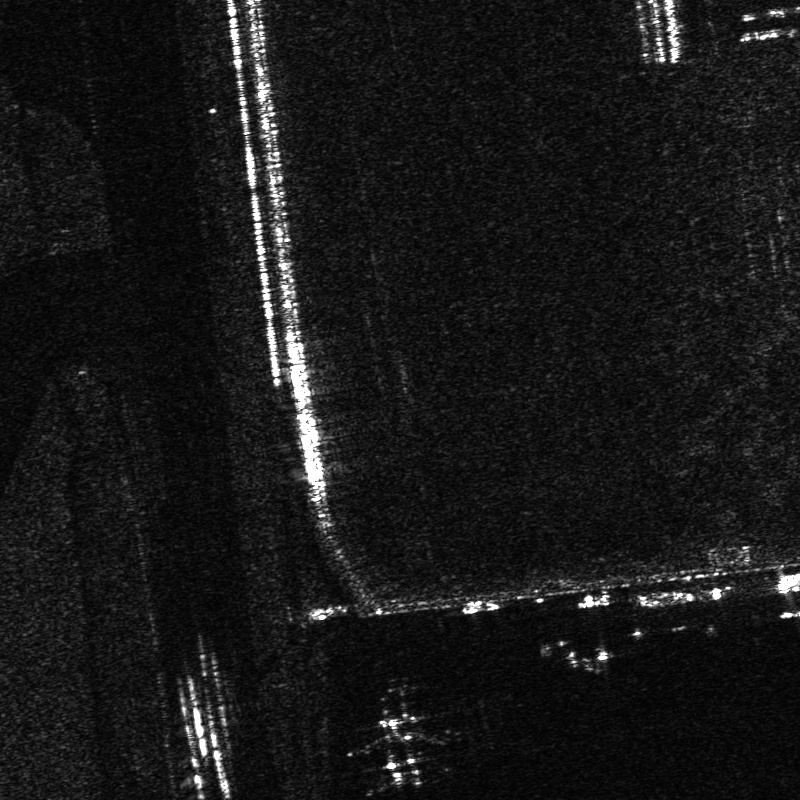A220: (345, 711, 445, 790)
